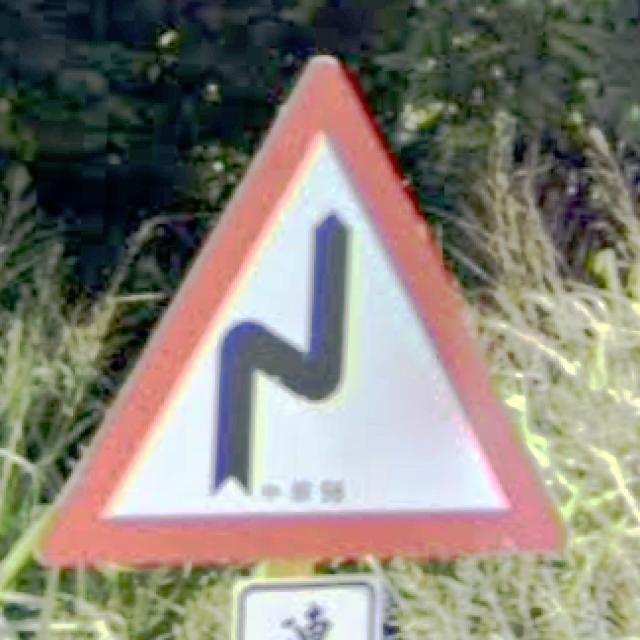doublebendright: (34, 57, 567, 569)
